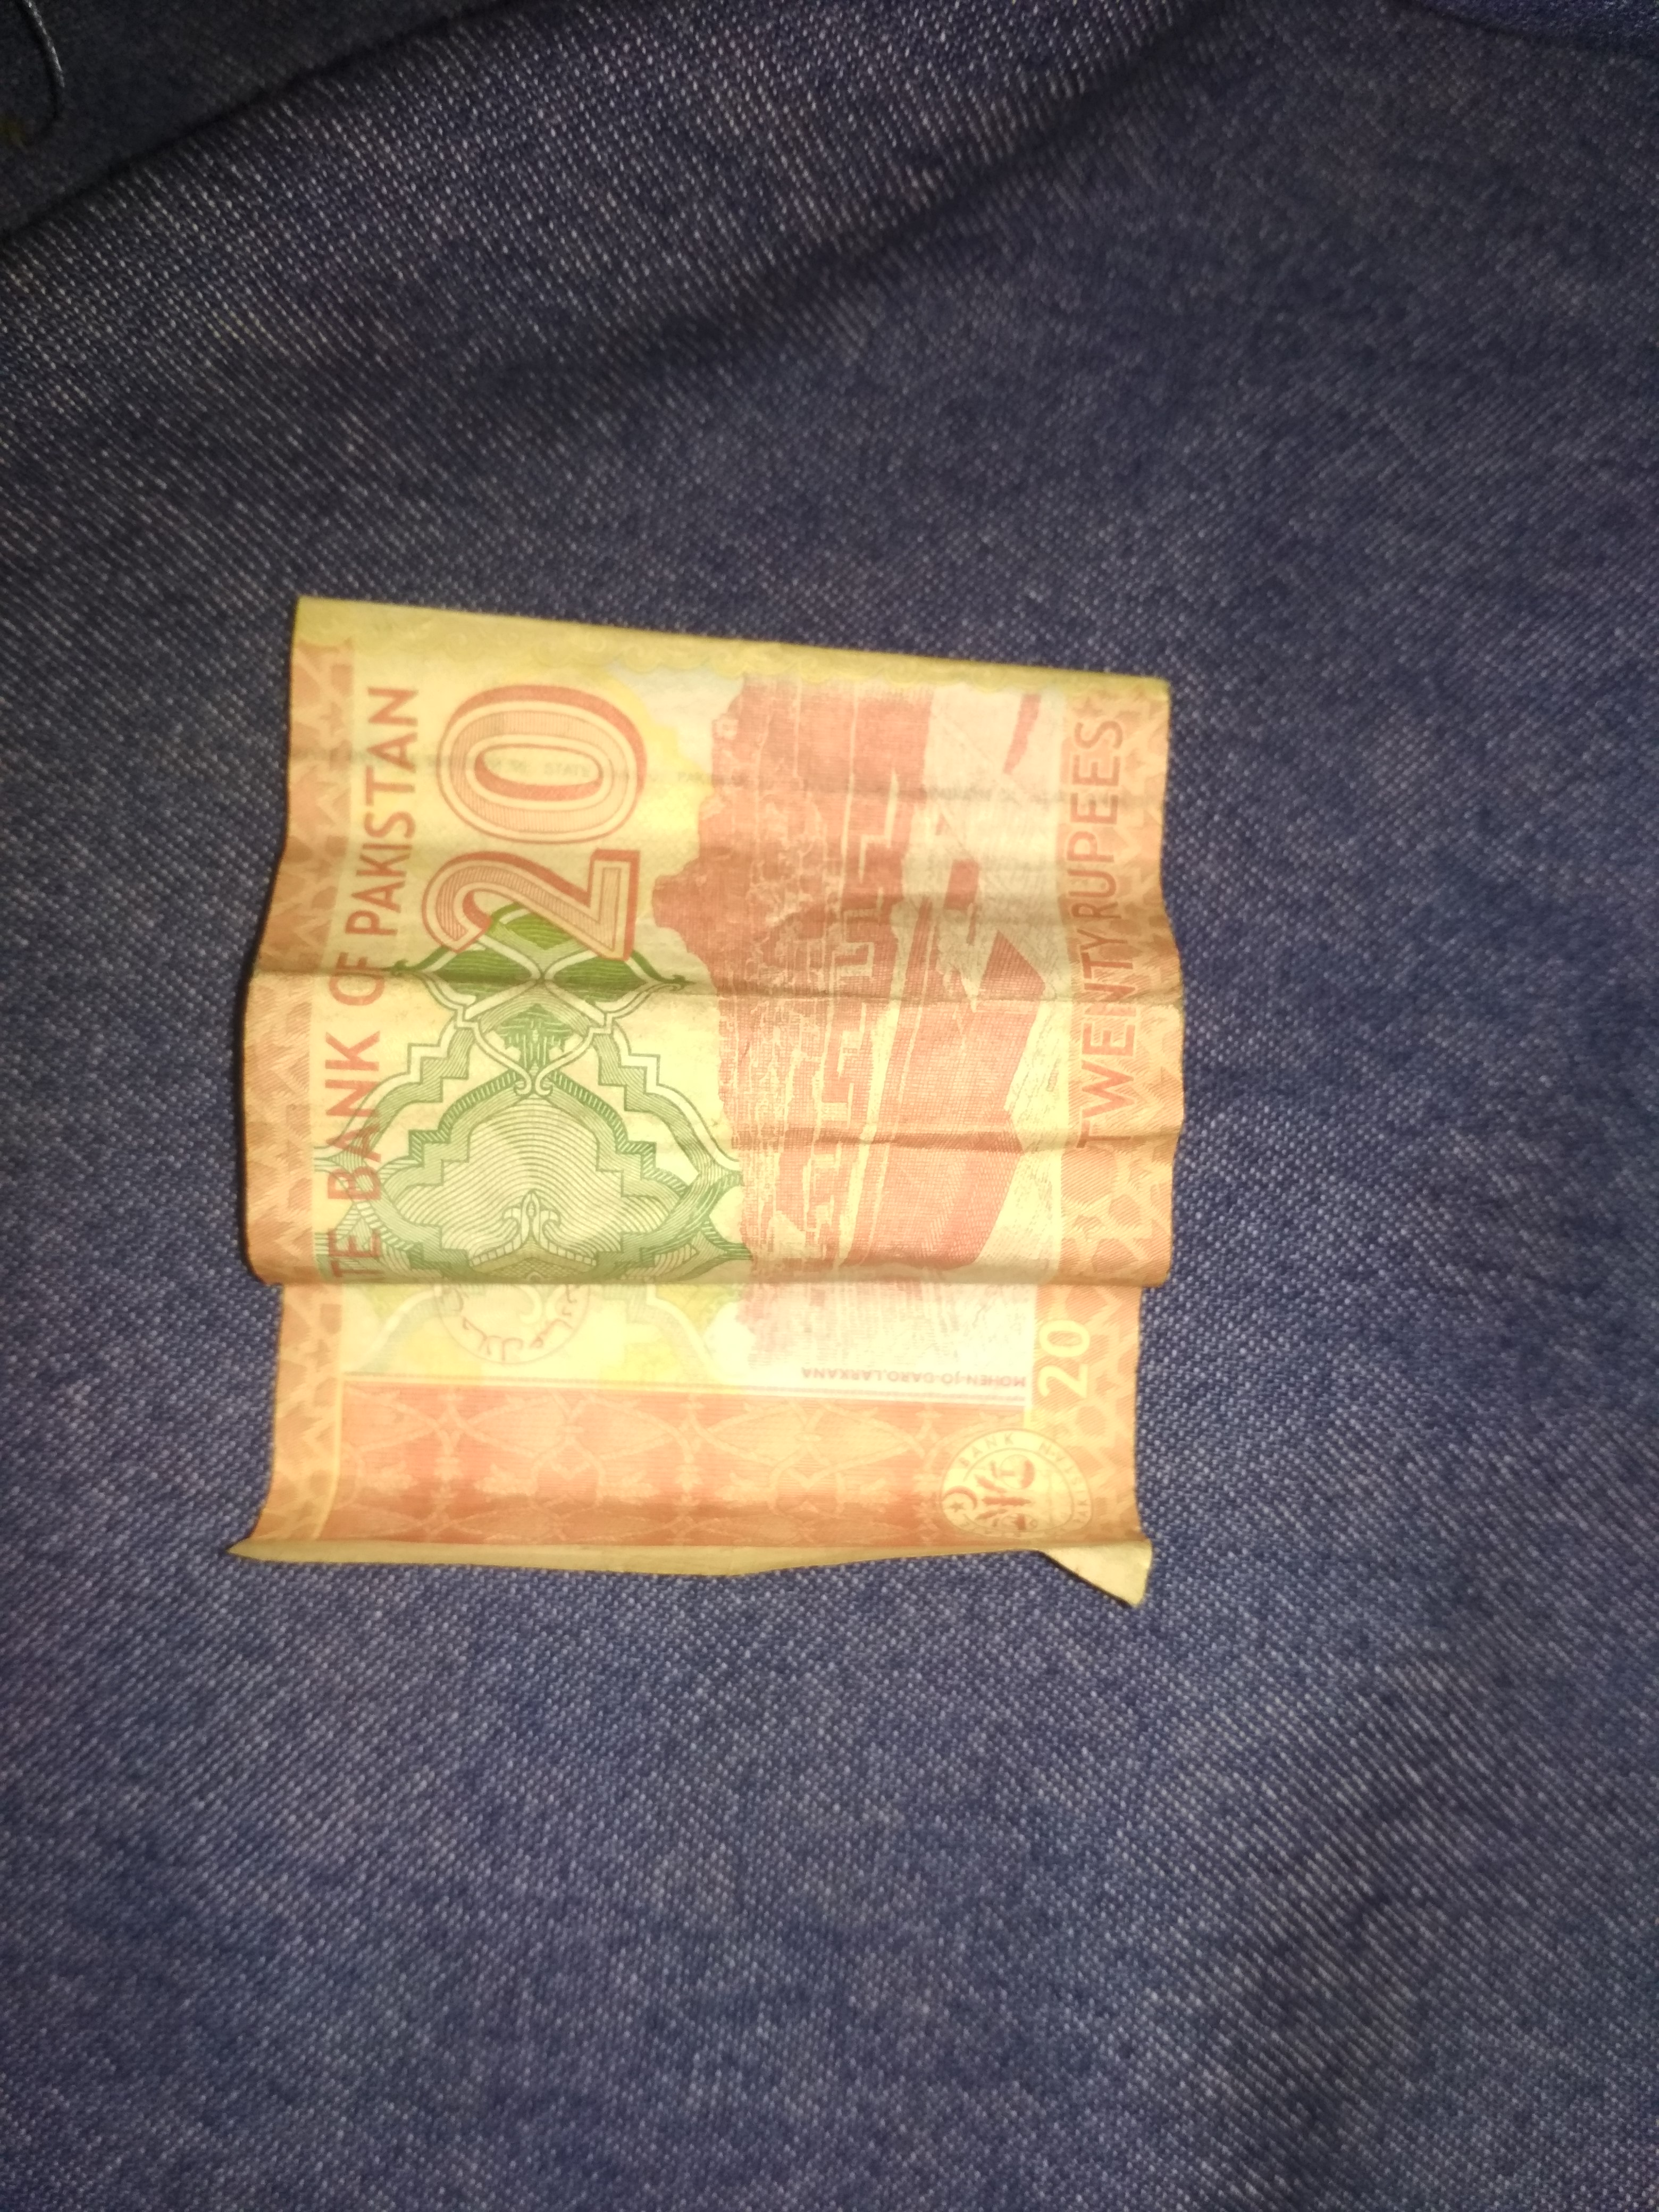20 rupee: (58, 509, 1258, 1620)
